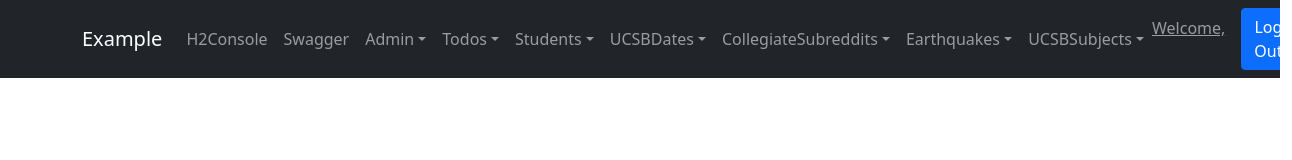
AppNavbar tests › renders the Students menu correctly for a user
Expected: the element with test id "appnavbar-students-dropdown" is shown, [515, 28, 582, 50]
Click the button "Students". click: click(554, 39)
box: [507, 19, 602, 59]
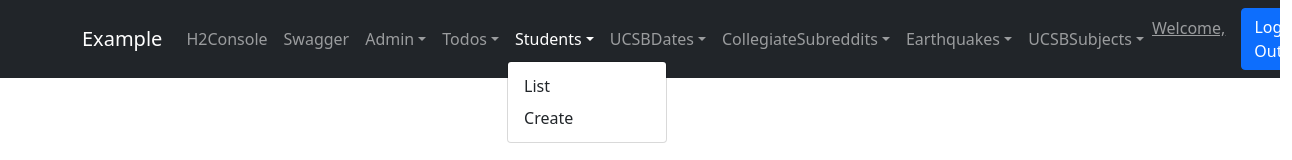
Expected: the link with test id "appnavbar-students-list" is shown, [524, 75, 550, 97]
